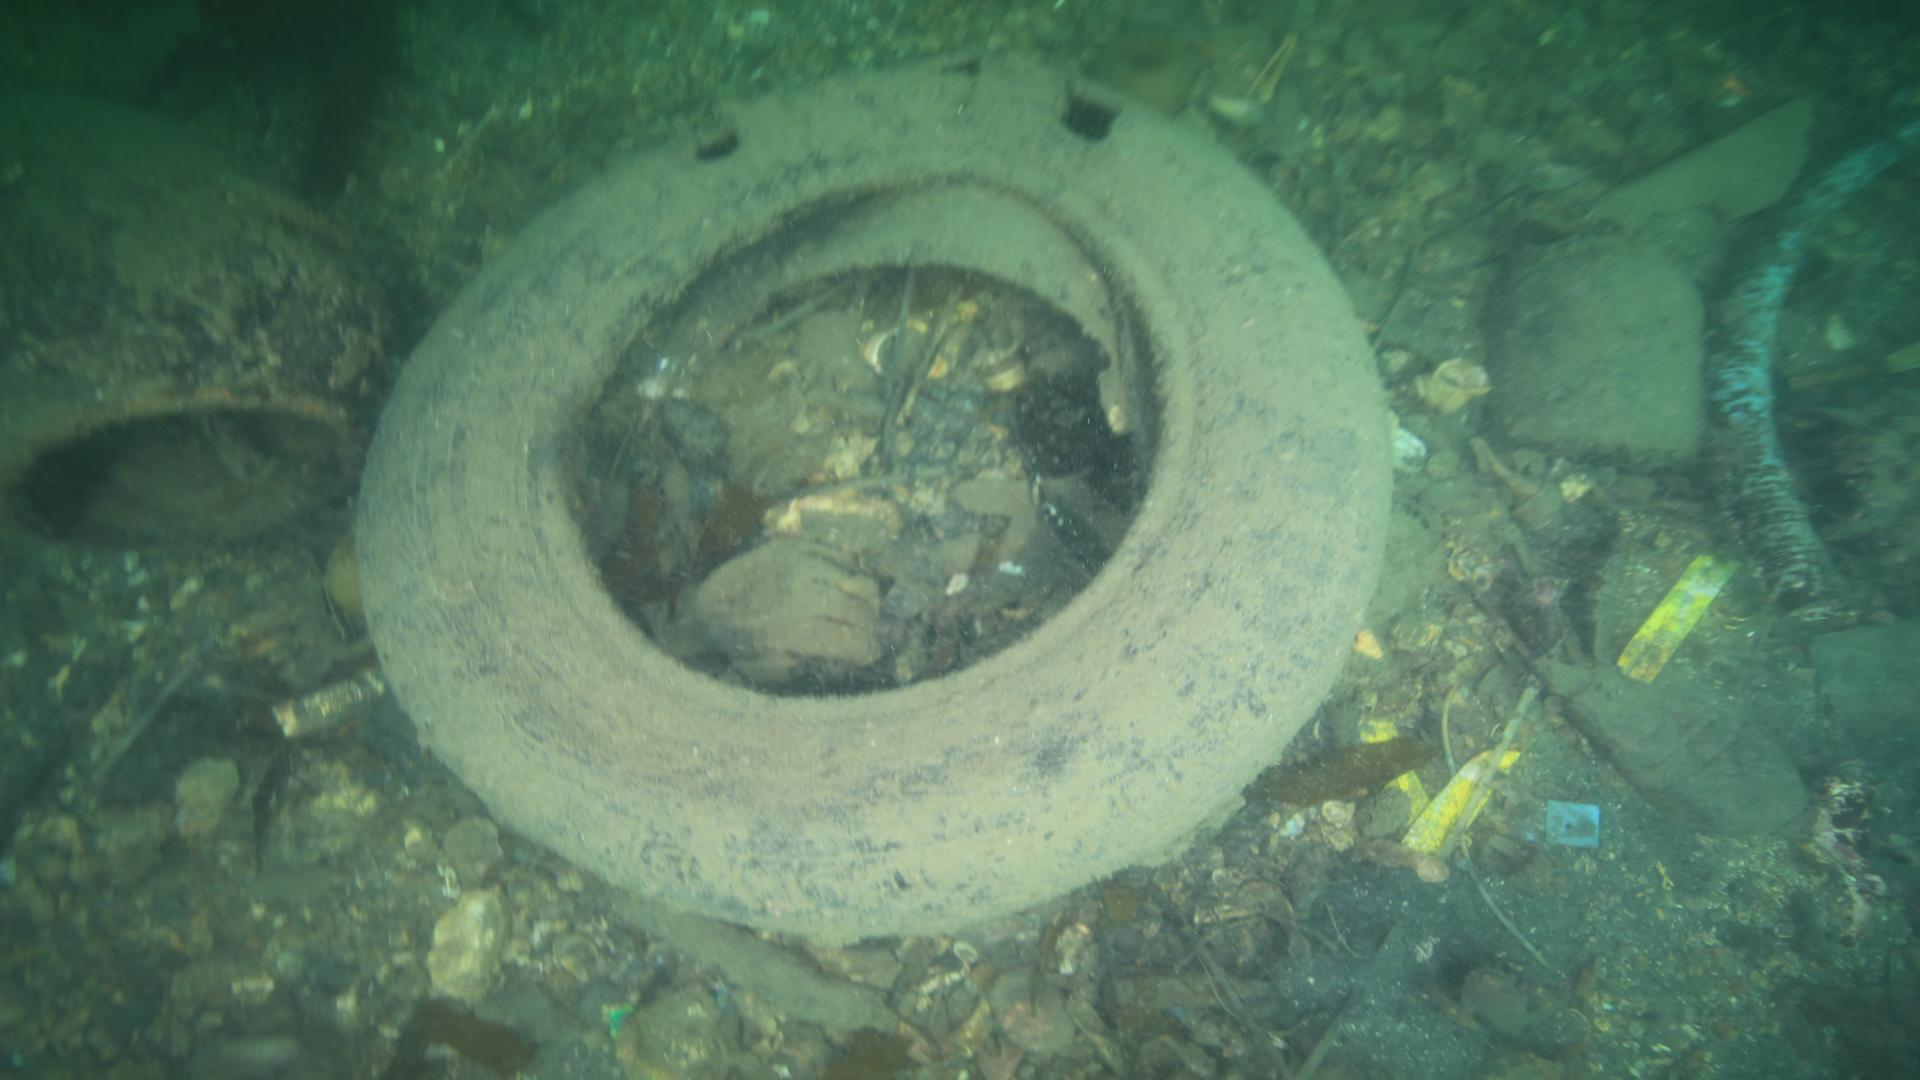tire: (352, 61, 1395, 944)
